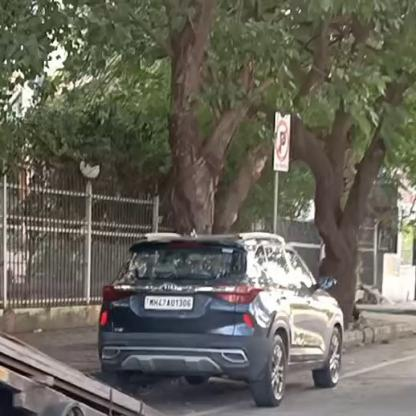license_plate: (142, 295, 193, 309)
